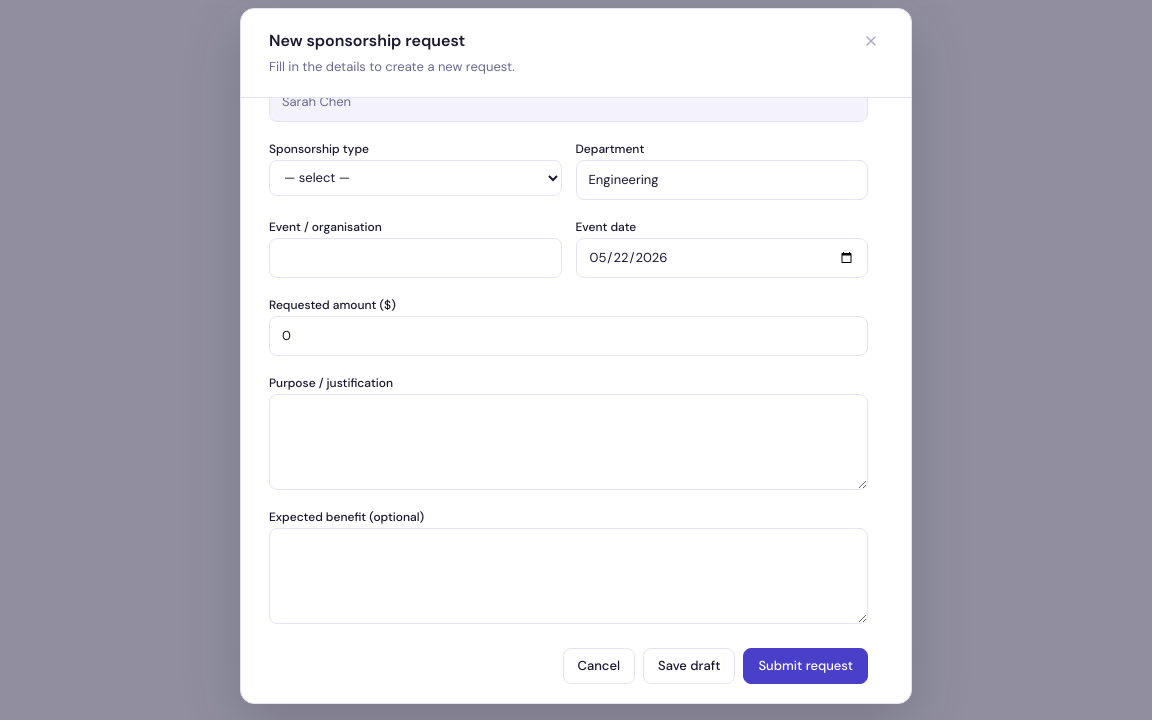
Test: RequestFormModal › shows validation errors for empty required fields
(page scrolled)
Click the button "Submit request" at (806, 666), box 744,648 -> 868,684
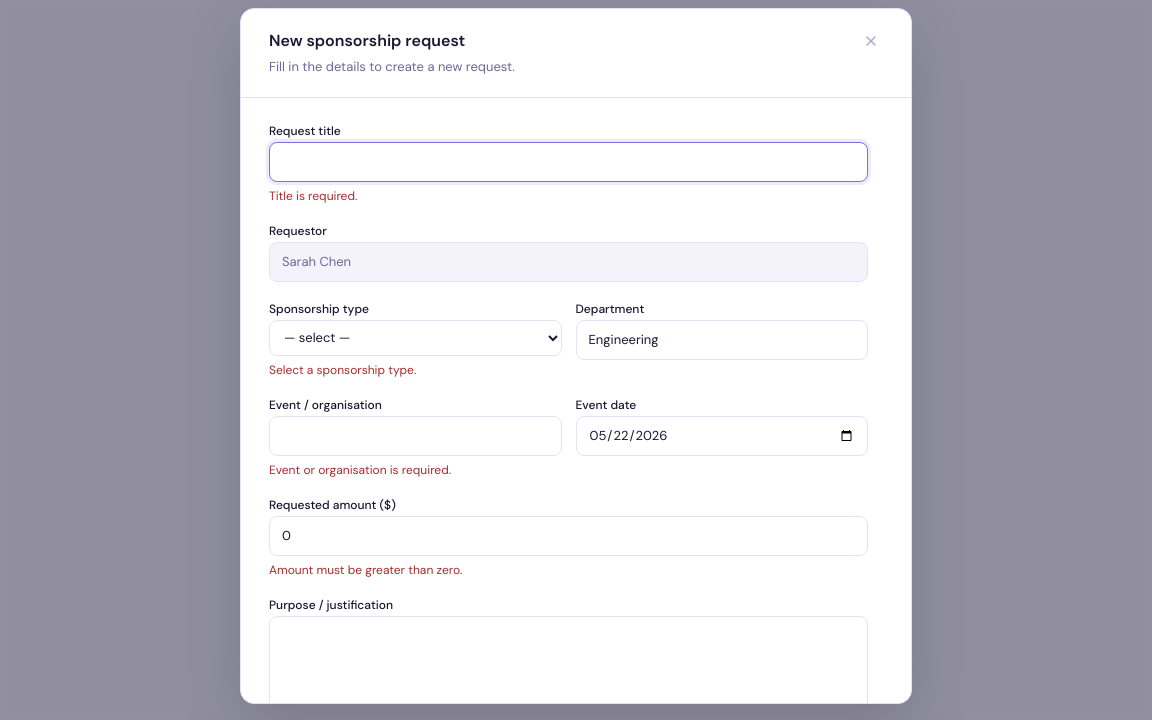
Result: the text "Title is required." is shown at 269,188 -> 357,204
